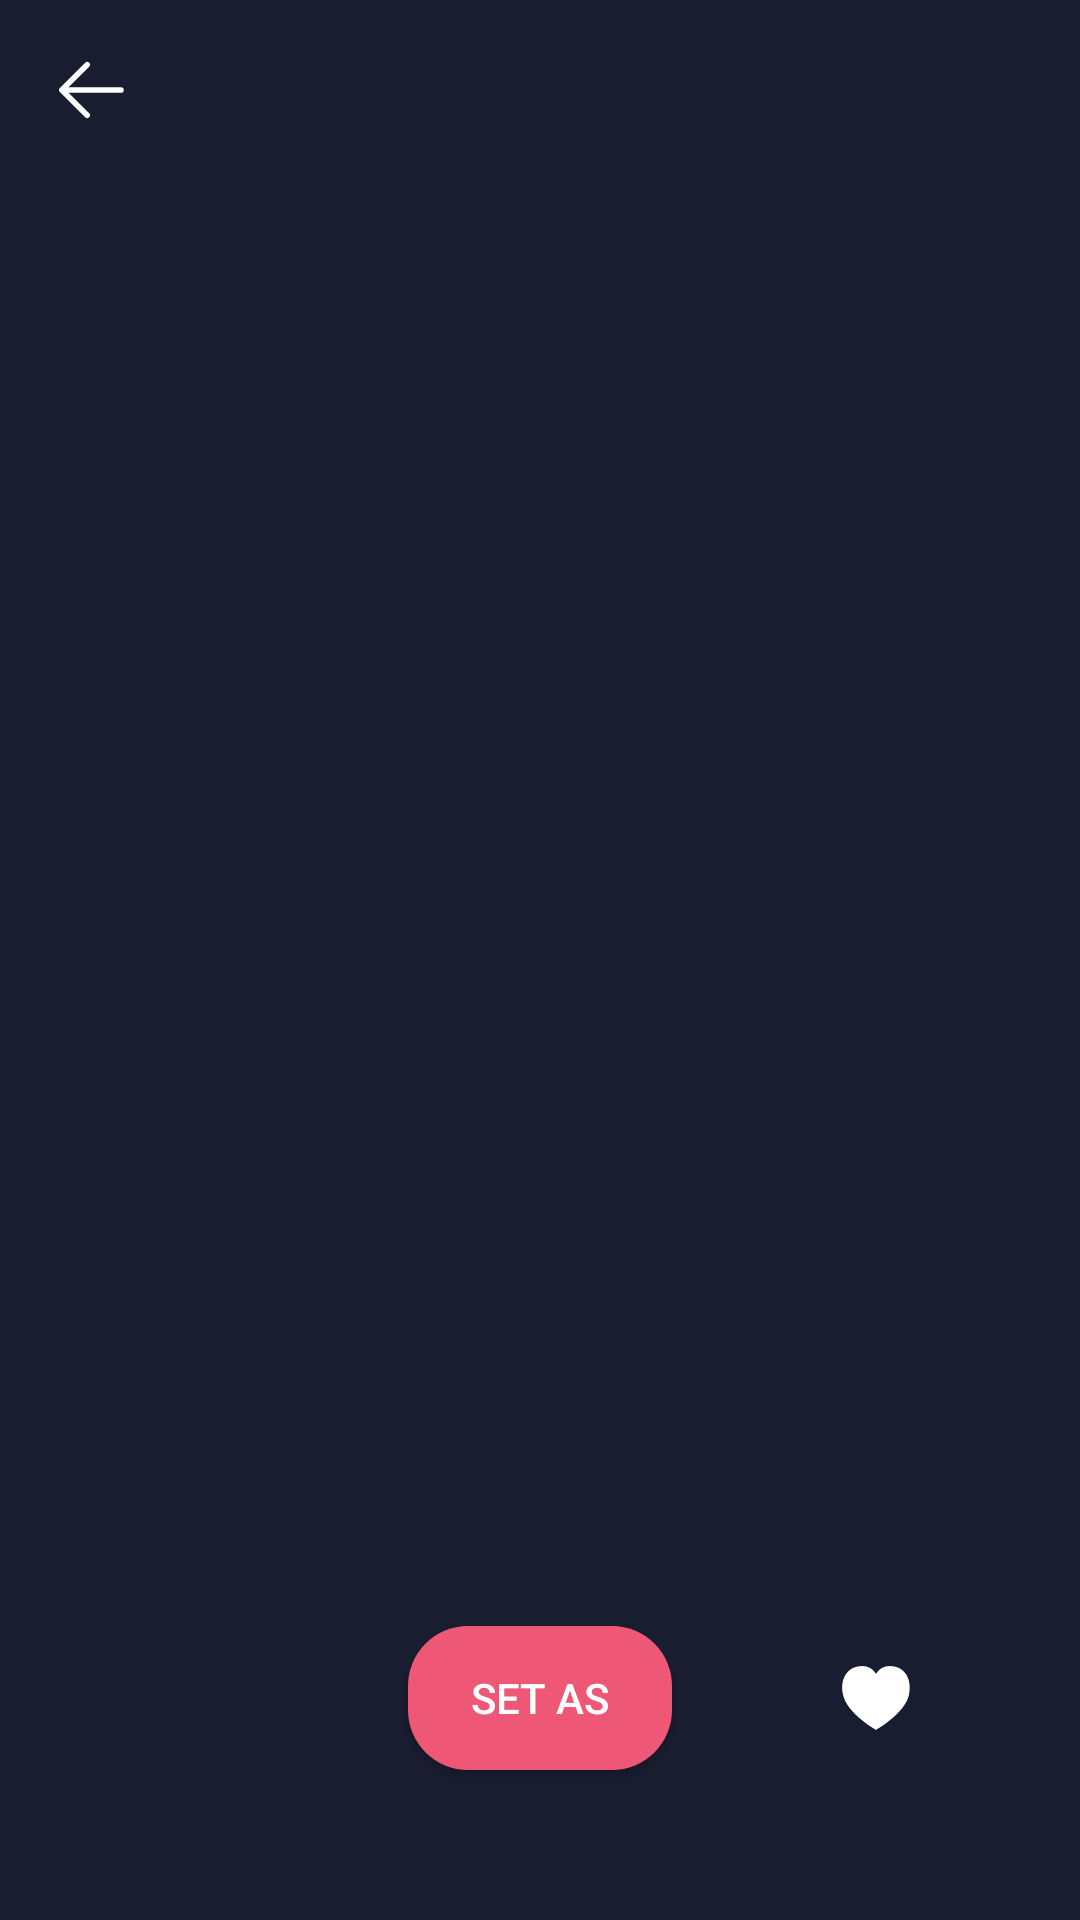

Screen size 1080w x 1920h. Icon name, then its center in pixels as (x,y):
back: (91,90)
favourite: (876,1698)
